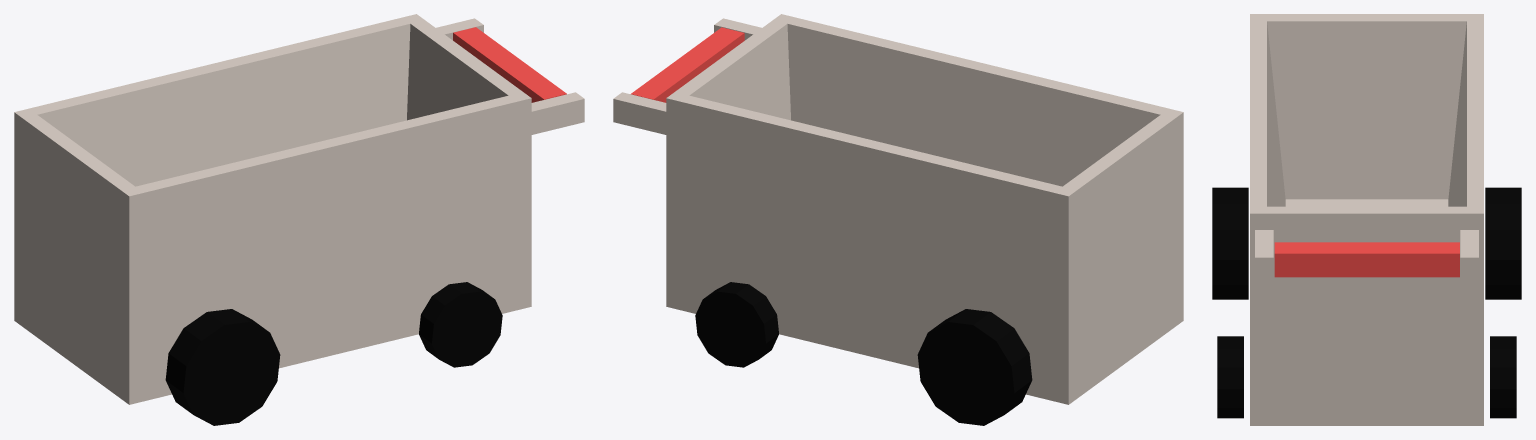
The model's file is Cart.glb.
The picture shows the model from 3 angles, left to right: view 1: azimuth 30°, elevation 25°; view 2: azimuth 150°, elevation 25°; view 3: azimuth 270°, elevation 25°; orthographic projection.
Parts seen in each view (by area): view 1: Cube, Cylinder, Cylinder.001, Cube.002, Cube.003; view 2: Cube, Cylinder, Cylinder.001, Cube.002, Cube.003; view 3: Cube, Cylinder, Cube.002, Cylinder.001, Cube.003.
Part boxes in pixels (x1,y1,x2,y2): Cube: (14,14,531,404); Cylinder: (165,309,280,425); Cylinder.001: (419,282,502,367); Cube.002: (453,27,566,102); Cube.003: (436,18,584,134); Cube: (666,14,1183,404); Cylinder: (917,309,1032,425); Cylinder.001: (695,282,778,367); Cube.002: (631,27,744,102); Cube.003: (613,18,761,134); Cube: (1250,14,1483,425); Cylinder: (1212,187,1521,299); Cube.002: (1274,242,1459,277); Cylinder.001: (1217,336,1516,418); Cube.003: (1255,230,1478,281).
Size of the model in its own units: 4.6 by 2.27 by 2.64.
